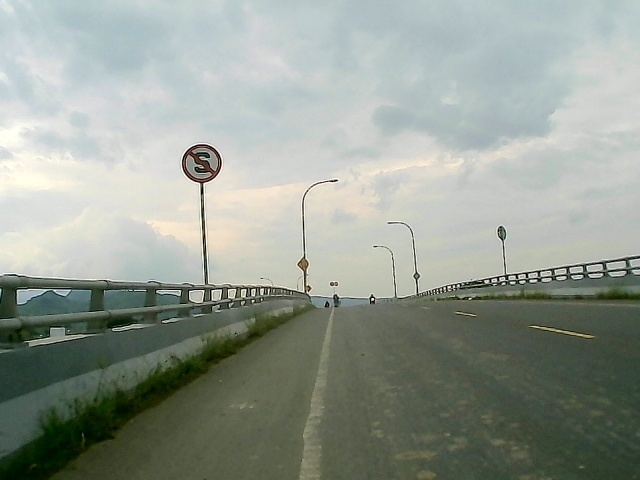Dilarang berhenti: (180, 143, 224, 184)
